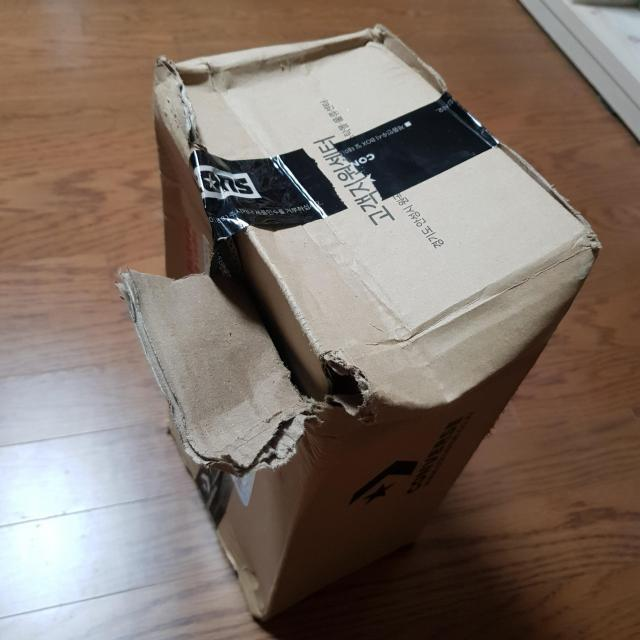damaged: (201, 241, 373, 425)
